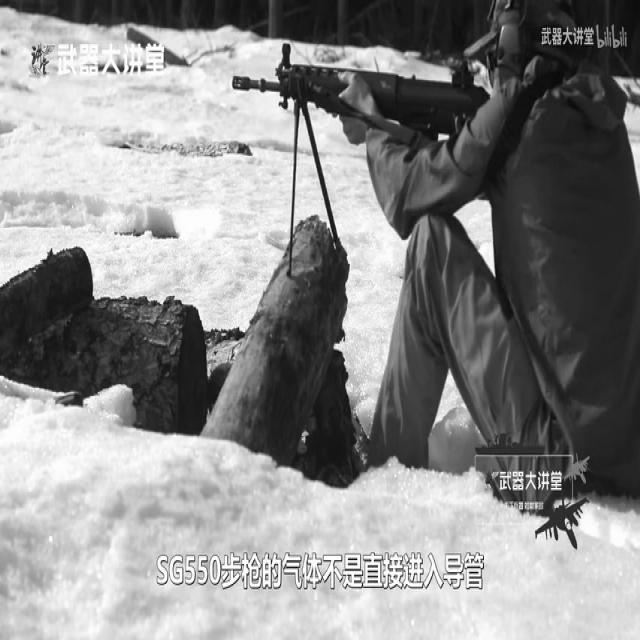Sniper: (201, 0, 562, 364)
